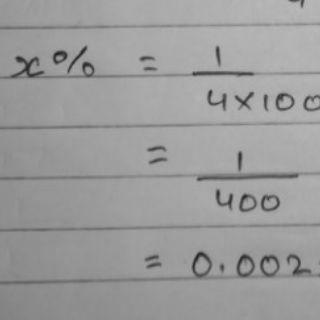.: (218, 261, 226, 272)
0: (188, 248, 213, 278), (258, 250, 281, 277), (235, 250, 256, 278), (274, 92, 296, 114), (259, 192, 281, 214), (237, 191, 258, 214), (303, 89, 319, 116)
1: (231, 146, 247, 172), (210, 41, 225, 67), (260, 87, 270, 114)
2: (284, 251, 311, 275)
4: (205, 82, 229, 111), (212, 182, 235, 211)
